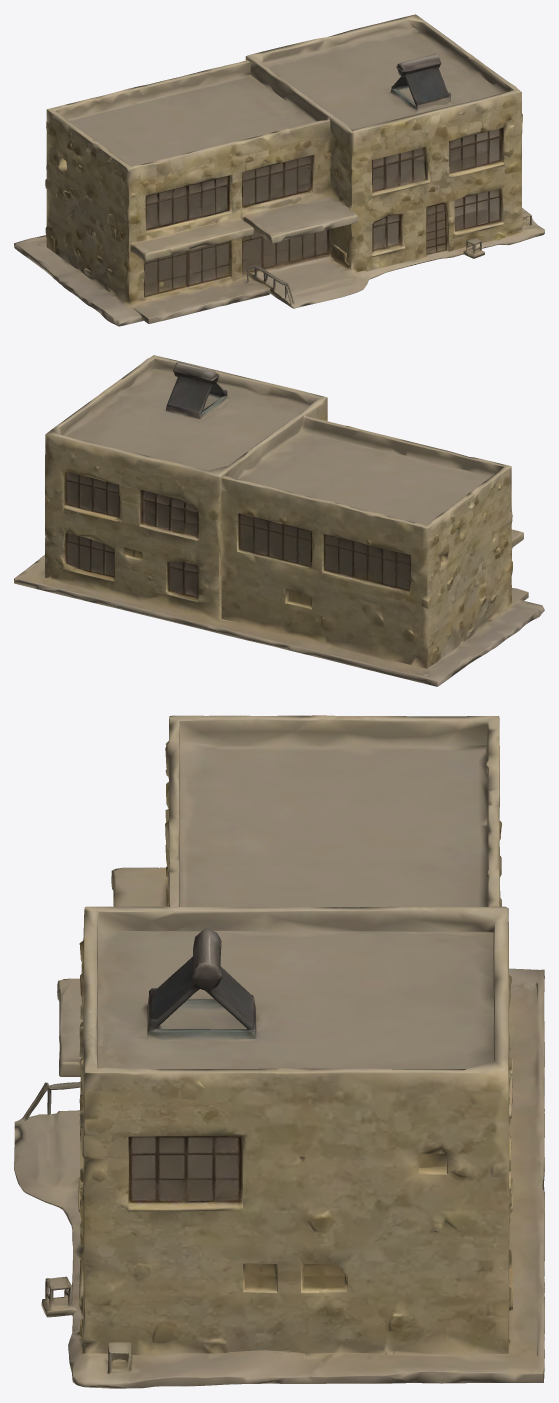
The model's file is school-architectural.glb.
The picture shows the model from 3 angles, top to bottom: view 1: azimuth 30°, elevation 25°; view 2: azimuth 150°, elevation 25°; view 3: azimuth 270°, elevation 25°; orthographic projection. The views are drawn at different scales.
Visible parts, largest first — view 1: tripo_node_3ae01b3f-deef-4bc5-8574-550179160413; view 2: tripo_node_3ae01b3f-deef-4bc5-8574-550179160413; view 3: tripo_node_3ae01b3f-deef-4bc5-8574-550179160413.
Boxes of the visible parts, x1,y1,x2,y2 form: tripo_node_3ae01b3f-deef-4bc5-8574-550179160413: (14,14,544,326); tripo_node_3ae01b3f-deef-4bc5-8574-550179160413: (14,355,544,686); tripo_node_3ae01b3f-deef-4bc5-8574-550179160413: (14,715,544,1388).
Bounding box in the file's own units: 1 × 0.3987 × 0.546.
Materials: 1 (1 with a texture image).
